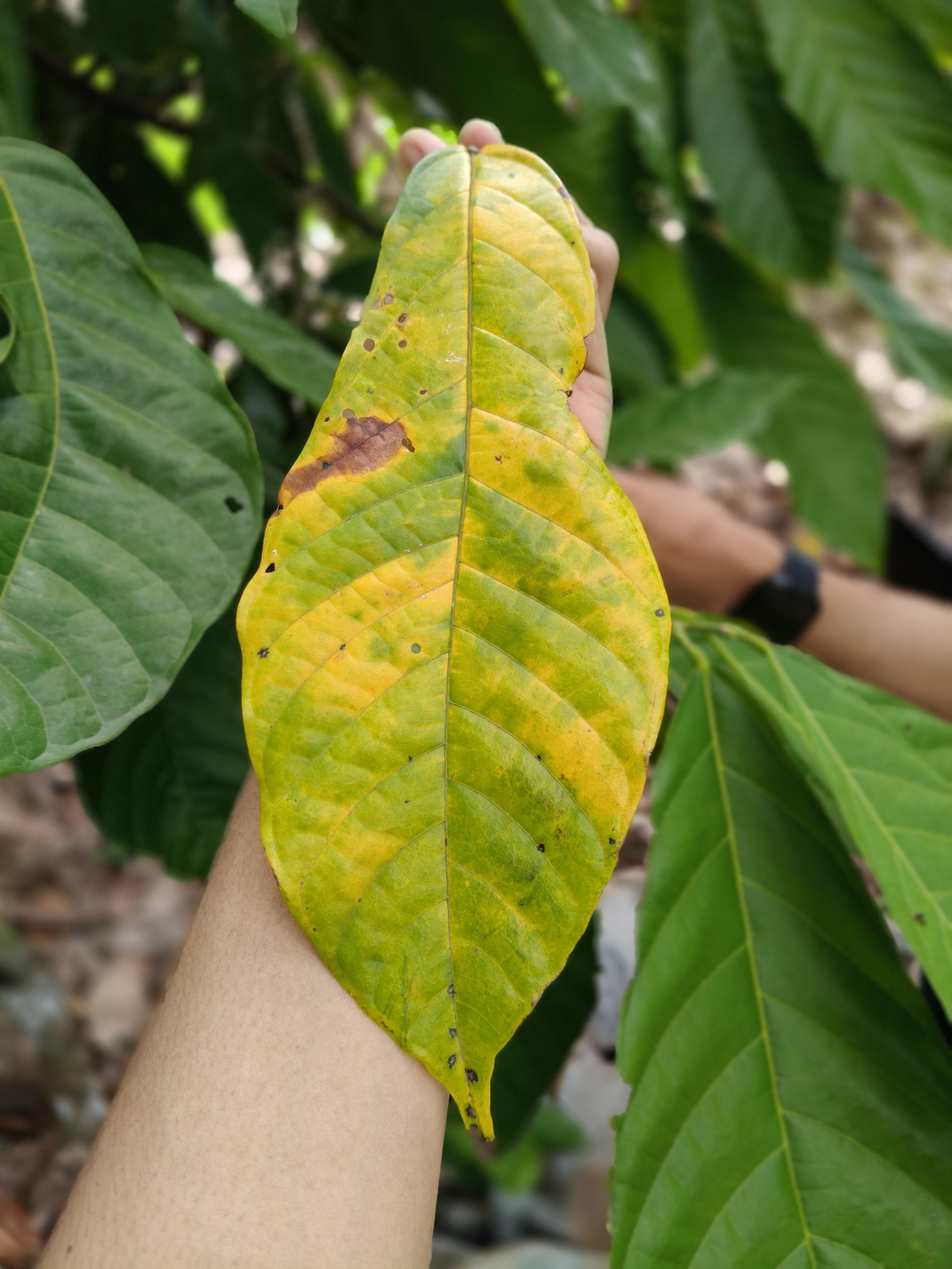deficiencia_potasio: (219, 135, 665, 1146)
